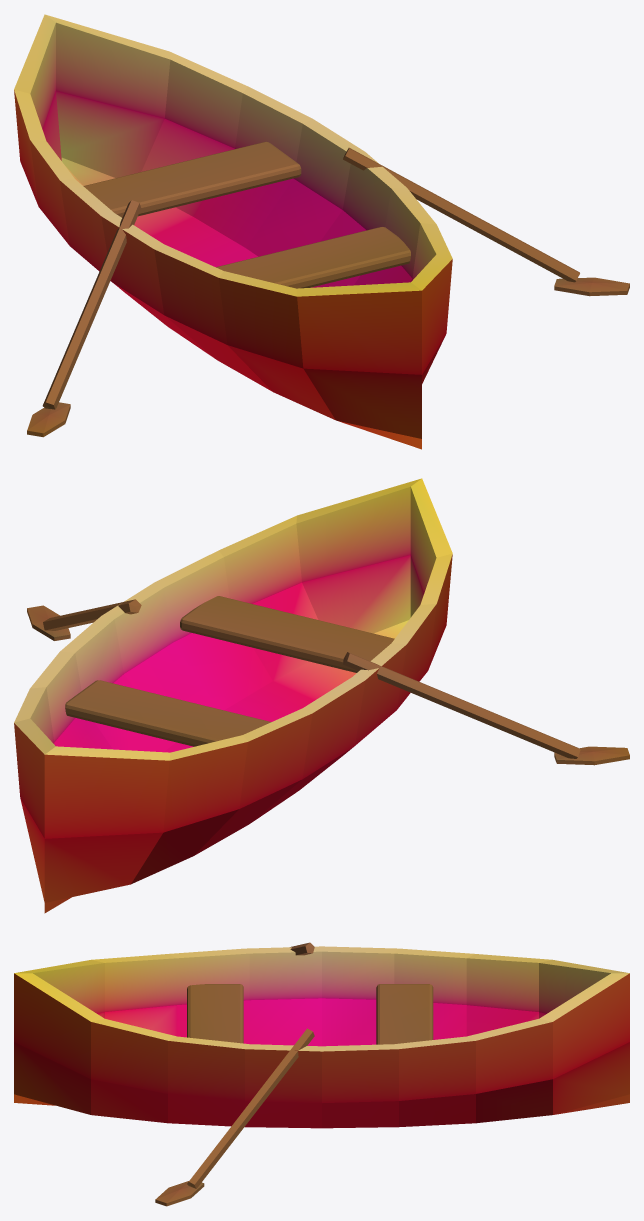
Rendered from Rowboat_01.glb.
3 views of the same model, one above another, from view 1: azimuth 30°, elevation 25°; view 2: azimuth 150°, elevation 25°; view 3: azimuth 270°, elevation 25° (orthographic). The views are drawn at different scales.
Visible parts, largest first — view 1: Rowboat_01; view 2: Rowboat_01; view 3: Rowboat_01.
Boxes of the visible parts, x1,y1,x2,y2 form: Rowboat_01: [14, 14, 629, 449]; Rowboat_01: [14, 478, 629, 913]; Rowboat_01: [14, 942, 629, 1206].
Bounding box in the file's own units: 2.4 × 0.64 × 2.6.
